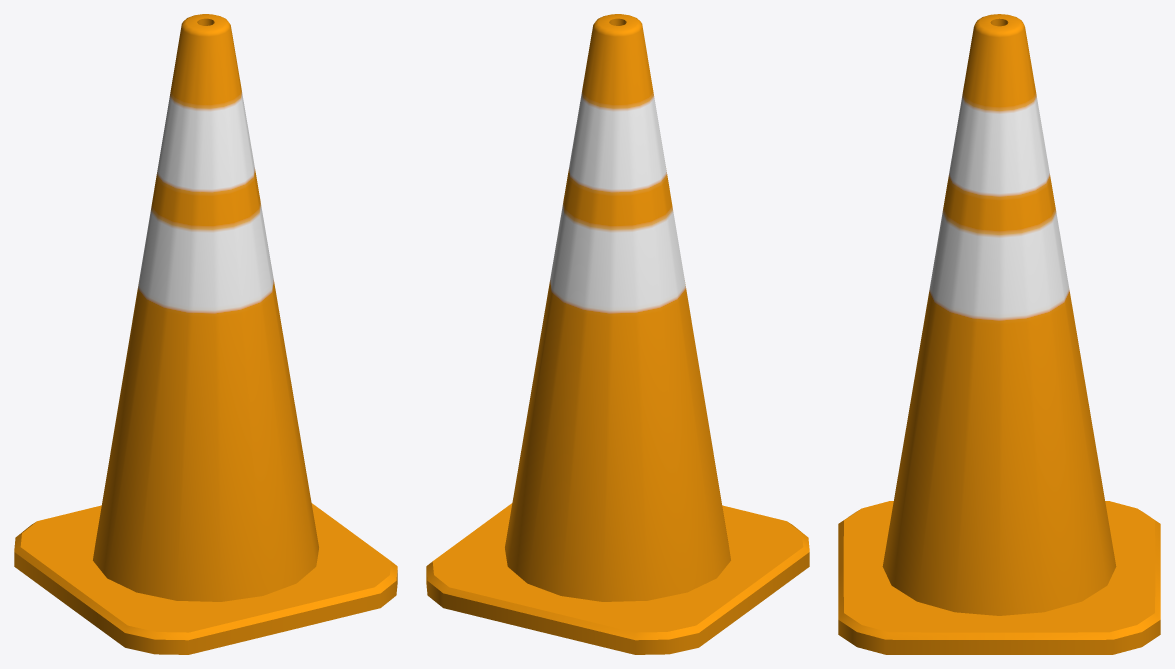
File: TrafficCone.fbx
3 views of the same model, side by side, from view 1: azimuth 30°, elevation 25°; view 2: azimuth 150°, elevation 25°; view 3: azimuth 270°, elevation 25° (orthographic). The views are drawn at different scales.
Visible parts, largest first — view 1: TrafficCone; view 2: TrafficCone; view 3: TrafficCone.
Boxes of the visible parts, x1=… form: TrafficCone: x1=14, y1=14, x2=397, y2=654; TrafficCone: x1=426, y1=14, x2=809, y2=654; TrafficCone: x1=838, y1=14, x2=1160, y2=654.
Bounding box in the file's own units: 36.83 × 71.12 × 36.83.
1 material, 1 textured.
